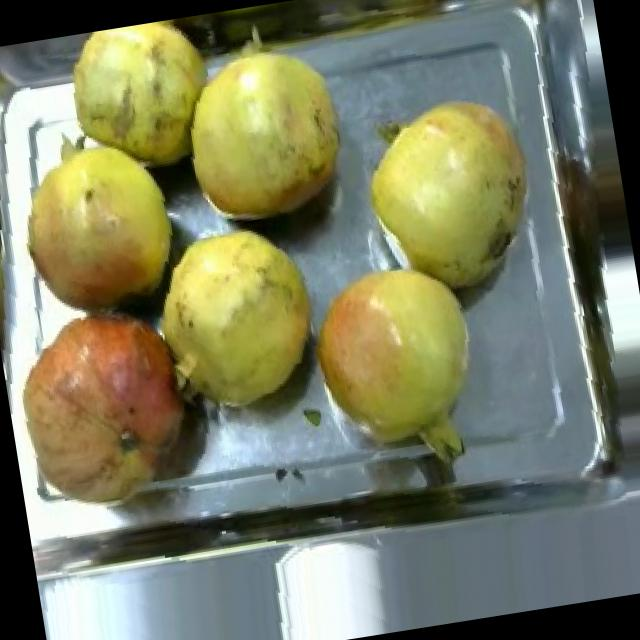fruit: (271, 233, 510, 502), (336, 74, 560, 327), (0, 283, 218, 521), (158, 14, 368, 248), (138, 204, 338, 436), (4, 113, 196, 330), (50, 13, 234, 183)
